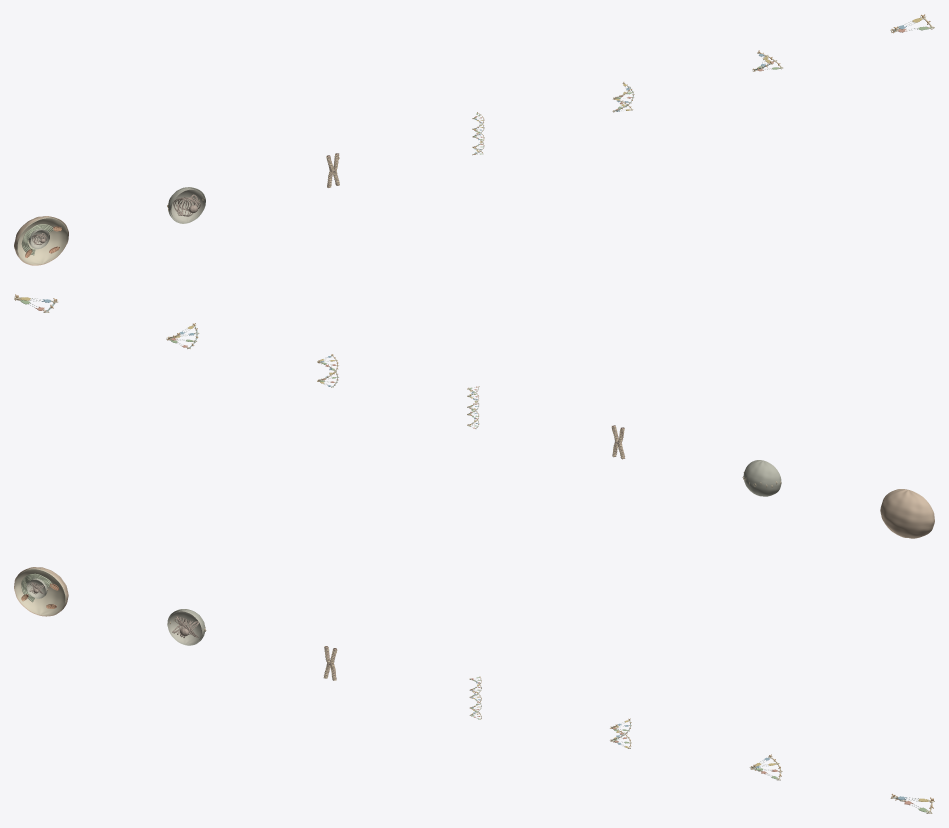
Rendered from nested_biology_model.glb.
3 renders of one model, top to bottom at view 1: azimuth 30°, elevation 25°; view 2: azimuth 150°, elevation 25°; view 3: azimuth 330°, elevation 25°, orthographic.
Visible parts, largest first — view 1: cytoplasm, nucleus_nuclear_interior; view 2: cell_membrane, nucleus_nuclear_envelope; view 3: cytoplasm, nucleus_nuclear_interior.
Part boxes in pixels (box(x1,y1,x2,y2)): cytoplasm: box(16, 217, 67, 264); nucleus_nuclear_interior: box(170, 188, 204, 222); cell_membrane: box(880, 489, 934, 538); nucleus_nuclear_envelope: box(743, 460, 781, 496); cytoplasm: box(15, 568, 66, 615); nucleus_nuclear_interior: box(168, 610, 203, 644).
Bounding box in the file's own units: 190 × 9.2 × 6.52.
